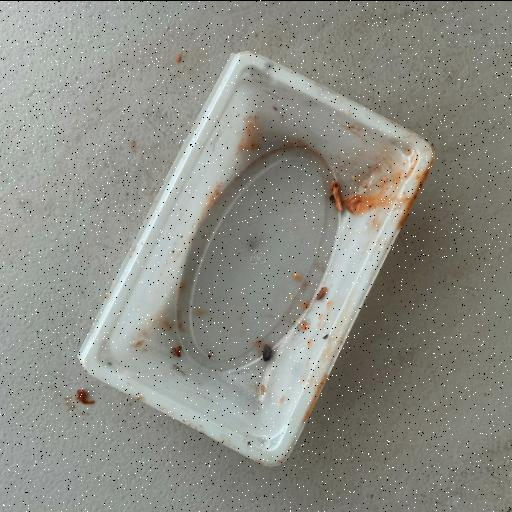Plastic: (76, 49, 436, 468)
